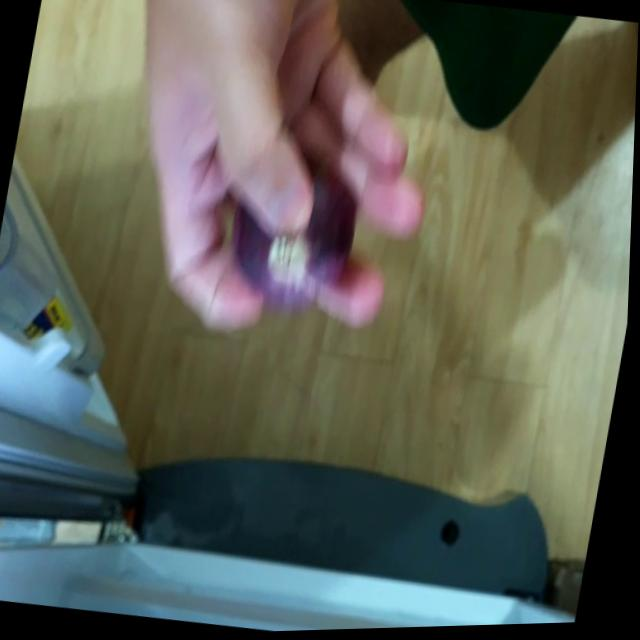onion: (232, 149, 367, 316)
